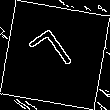L_SE: (28, 25, 82, 85)
